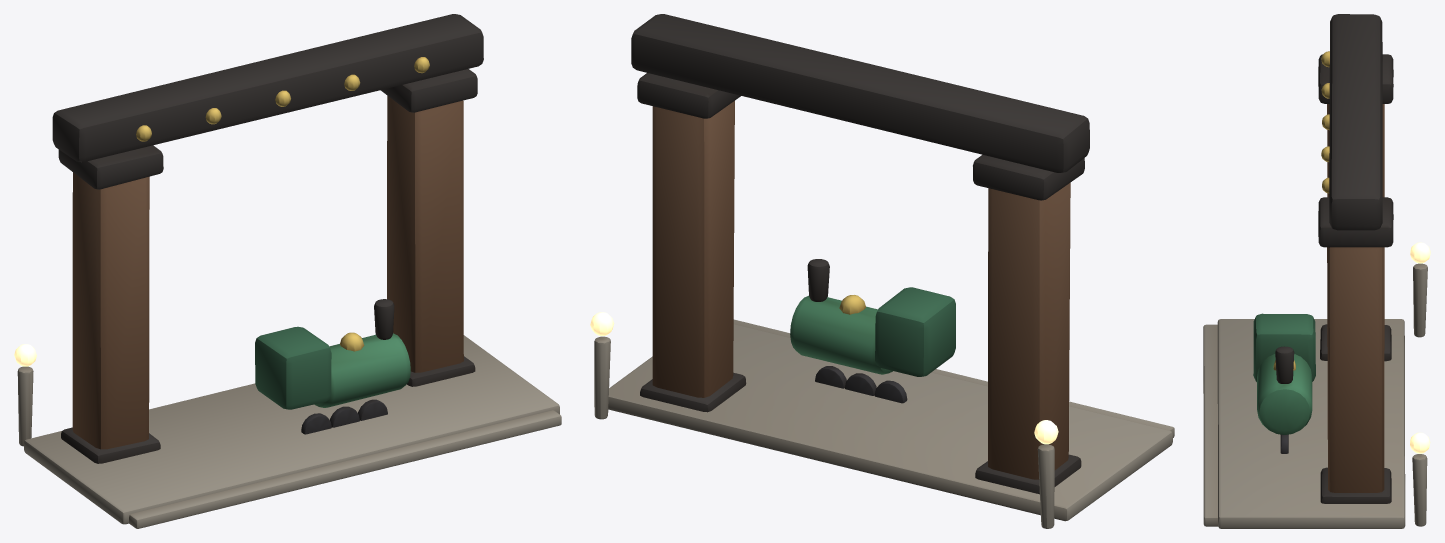
3 renders of one model, left to right at view 1: azimuth 30°, elevation 25°; view 2: azimuth 150°, elevation 25°; view 3: azimuth 270°, elevation 25°, orthographic. The views are drawn at different scales.
Parts seen in each view (by area): view 1: gate_435f2021; view 2: gate_435f2021; view 3: gate_435f2021.
Boxes of the visible parts, box(x1,y1,x2,y2) form: gate_435f2021: box(14, 14, 561, 528); gate_435f2021: box(590, 14, 1174, 528); gate_435f2021: box(1203, 14, 1430, 528).
Bounding box in the file's own units: 5.31 × 4.05 × 2.55.
